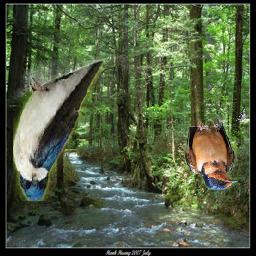Swallow: (13, 61, 103, 202), (185, 118, 238, 191)
Woodpecker: (235, 105, 249, 121)
